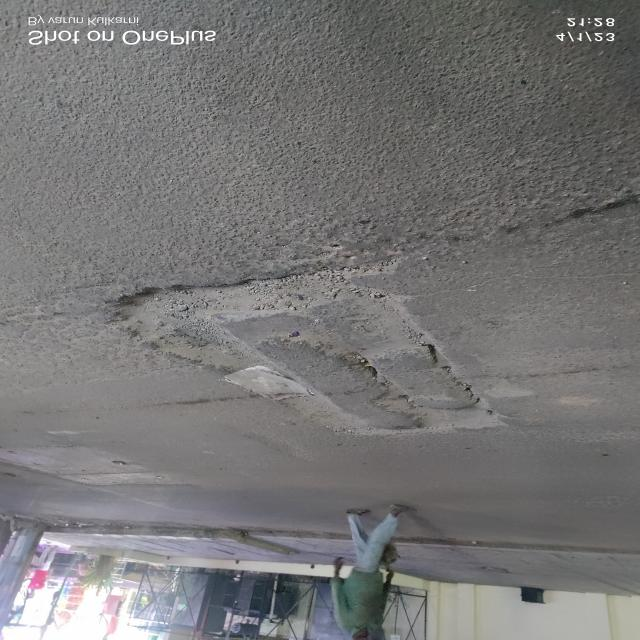potholes: (85, 262, 514, 442)
